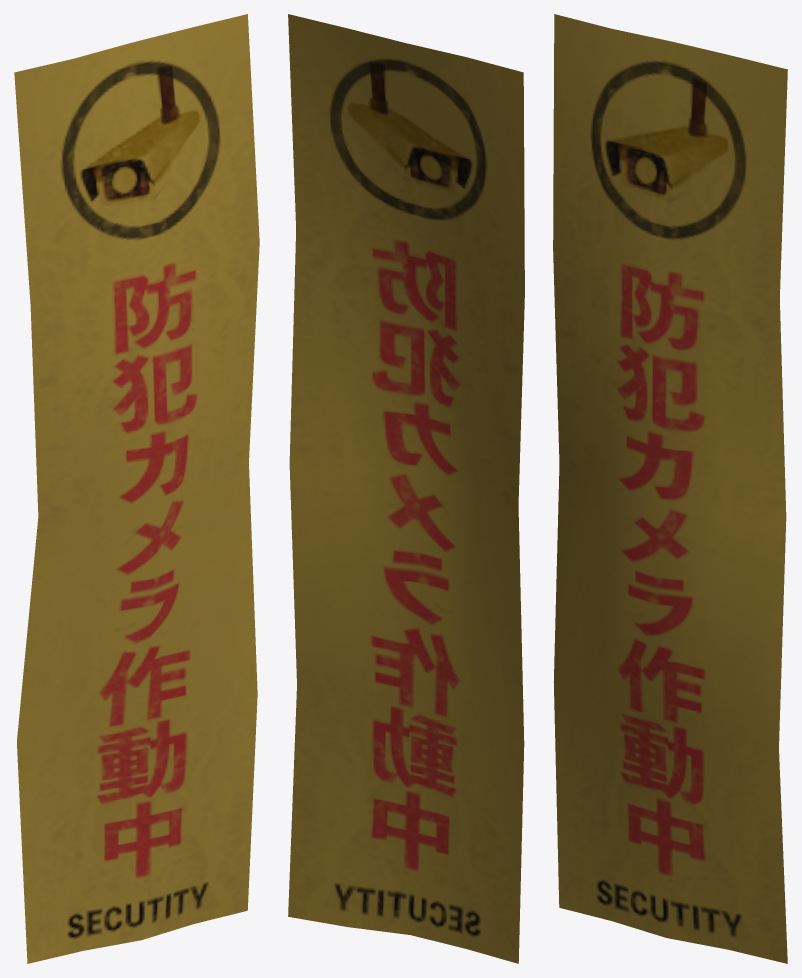
The model's file is posterD.fbx.
3 renders of one model, left to right at view 1: azimuth 30°, elevation 25°; view 2: azimuth 150°, elevation 25°; view 3: azimuth 330°, elevation 25°, orthographic.
Parts seen in each view (by area): view 1: posterD; view 2: posterD; view 3: posterD.
Boxes of the visible parts, bbox=[...] form: posterD: bbox=[14, 14, 259, 963]; posterD: bbox=[288, 14, 524, 963]; posterD: bbox=[553, 14, 787, 963].
Bounding box in the file's own units: 11.02 × 40.07 × 1.9.
1 material, 1 textured.
